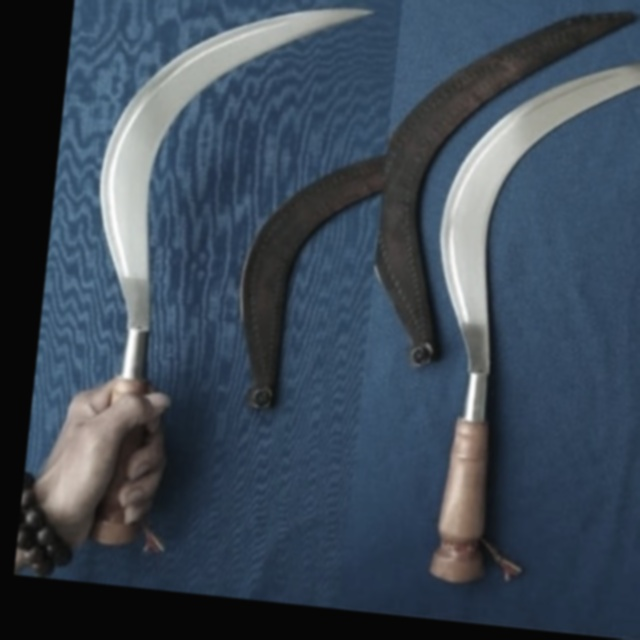Sharp-Object: (54, 0, 376, 592), (400, 42, 640, 615)
